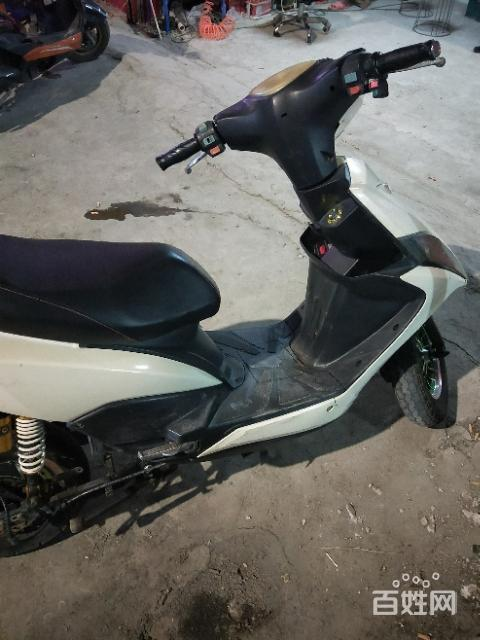电动车: (1, 42, 478, 555)
